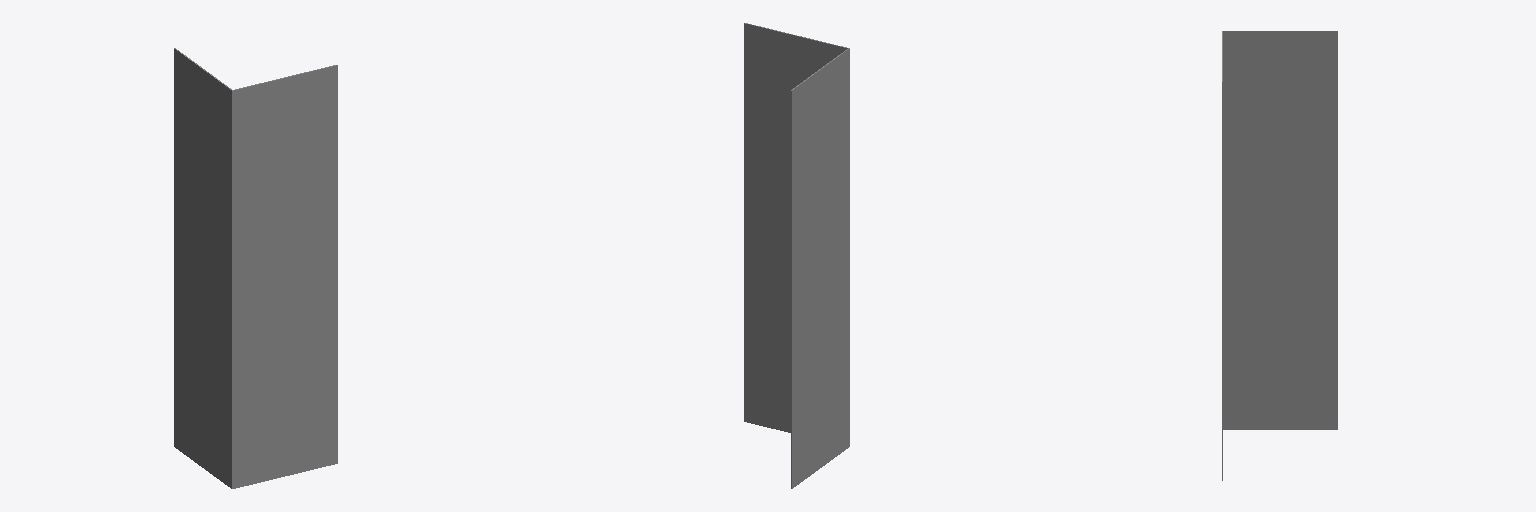
Rendered from armaFloat.obj.
3 views of the same model, side by side, from view 1: azimuth 30°, elevation 25°; view 2: azimuth 150°, elevation 25°; view 3: azimuth 270°, elevation 25° (orthographic).
Size of the model in its own units: 4.36 by 15.73 by 4.15.